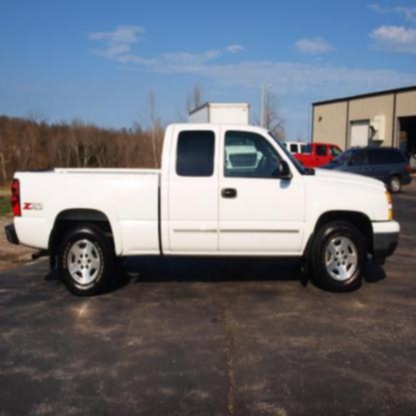Vehicle: (5, 122, 402, 298)
